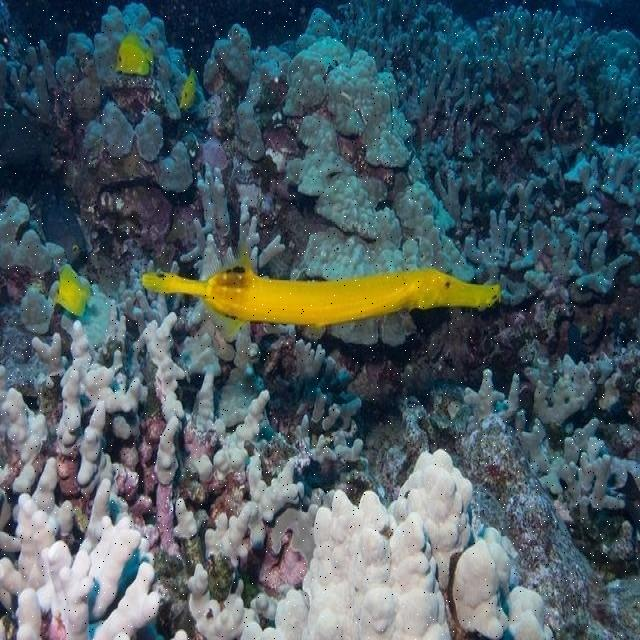fish: (145, 257, 507, 338), (51, 267, 91, 316), (117, 35, 149, 73), (181, 70, 202, 106)
reefs: (0, 172, 554, 640)
